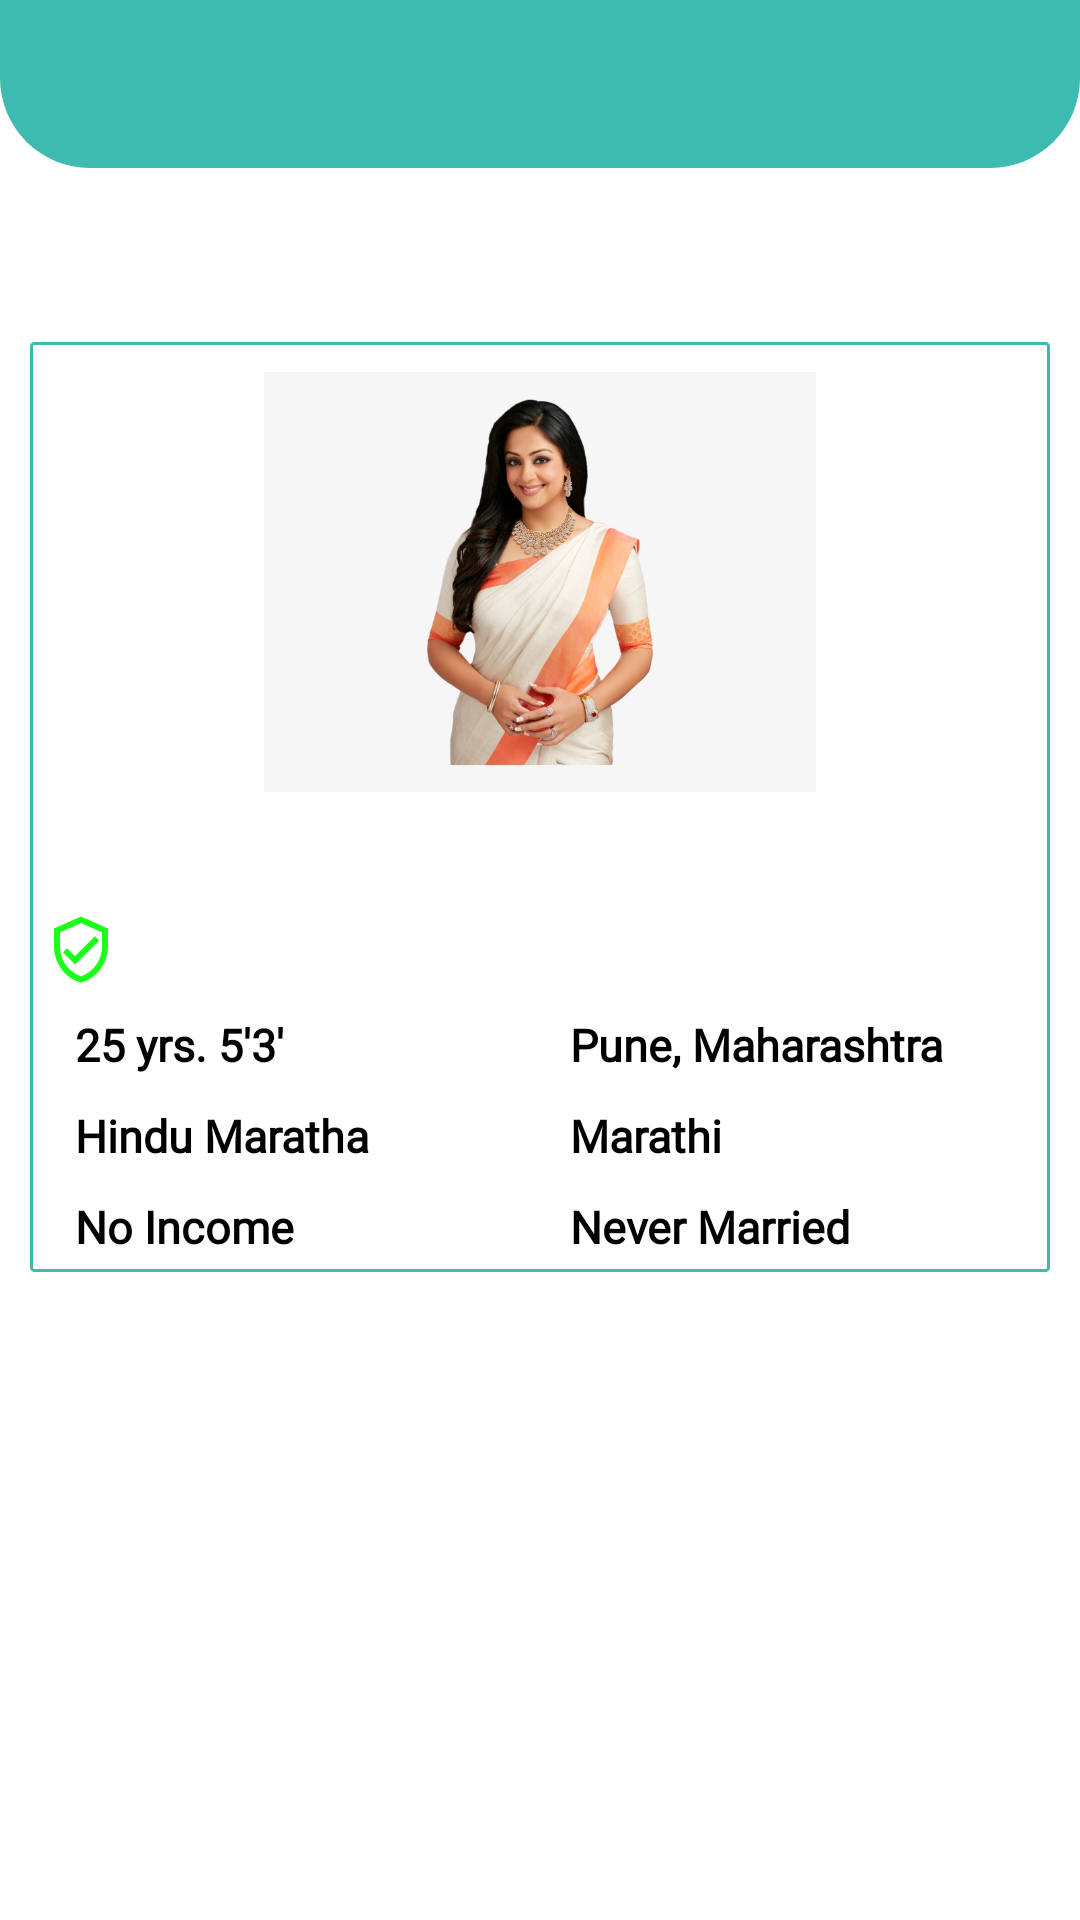

Where to tap for icons on this 1080px x 1920px app screen, as [x,y]:
verifiedicon: [81,949]
